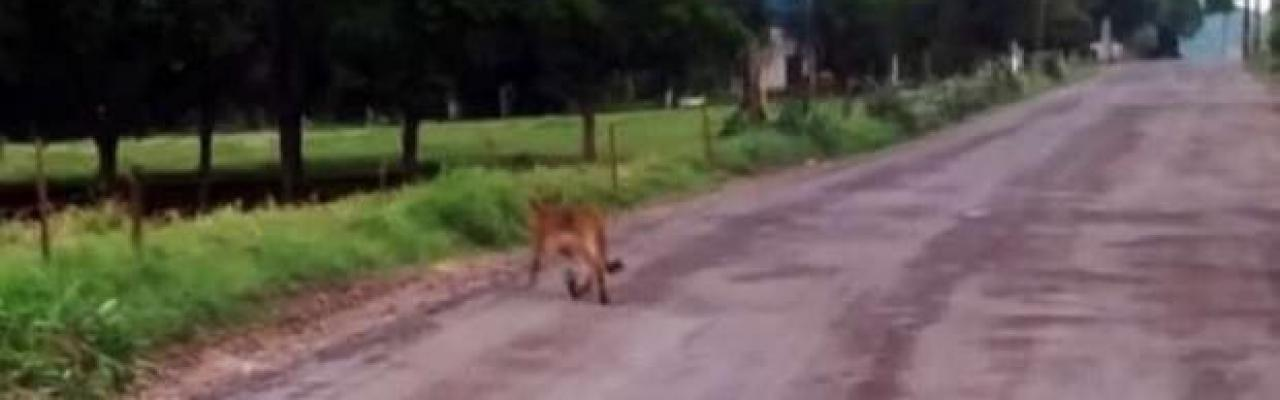OncaParda: (491, 184, 635, 326)
